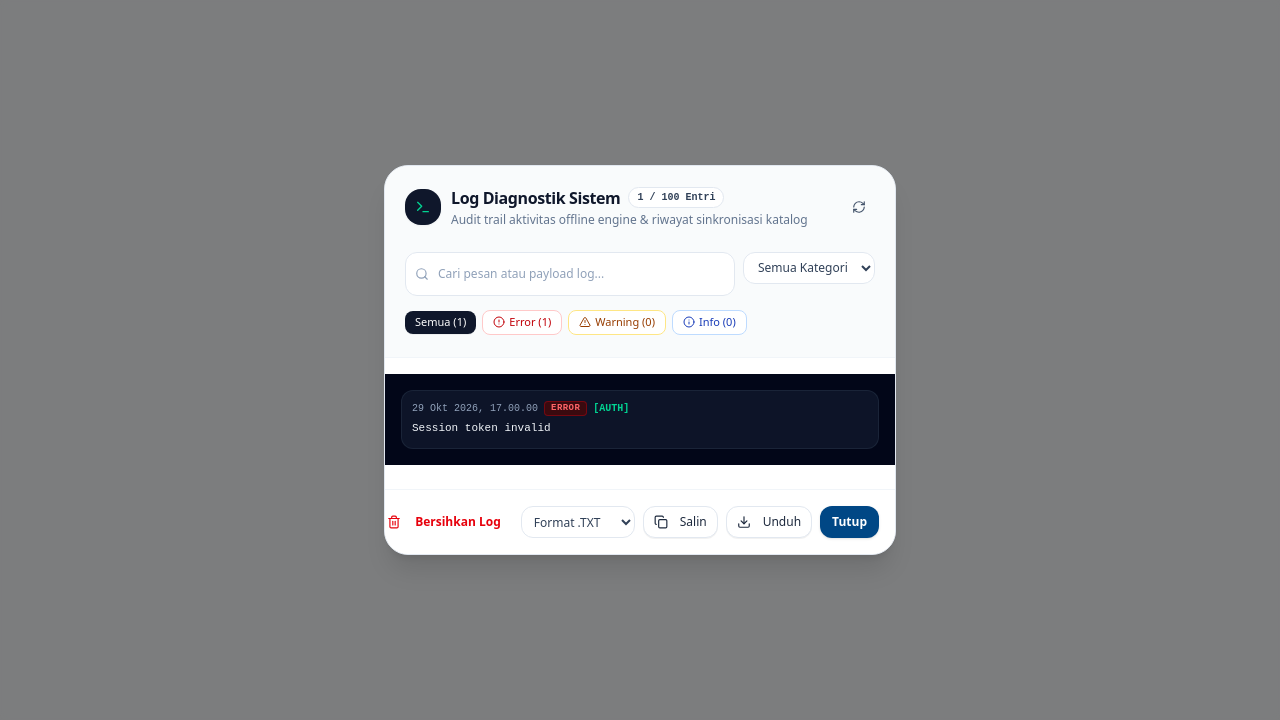
it: DiagnosticLogDialog Component Suite (Task P5.13) › confirms and clears all diagnostic logs
The width and height of the screenshot is (1280, 720).
Expected: the text "Session token invalid" is shown, [412,422,551,434]
What coordinates should you click on to do the following:
click the button with test id "clear-logs-button"
I would click on:
 (444, 522)
Its box is [377,506,511,538].
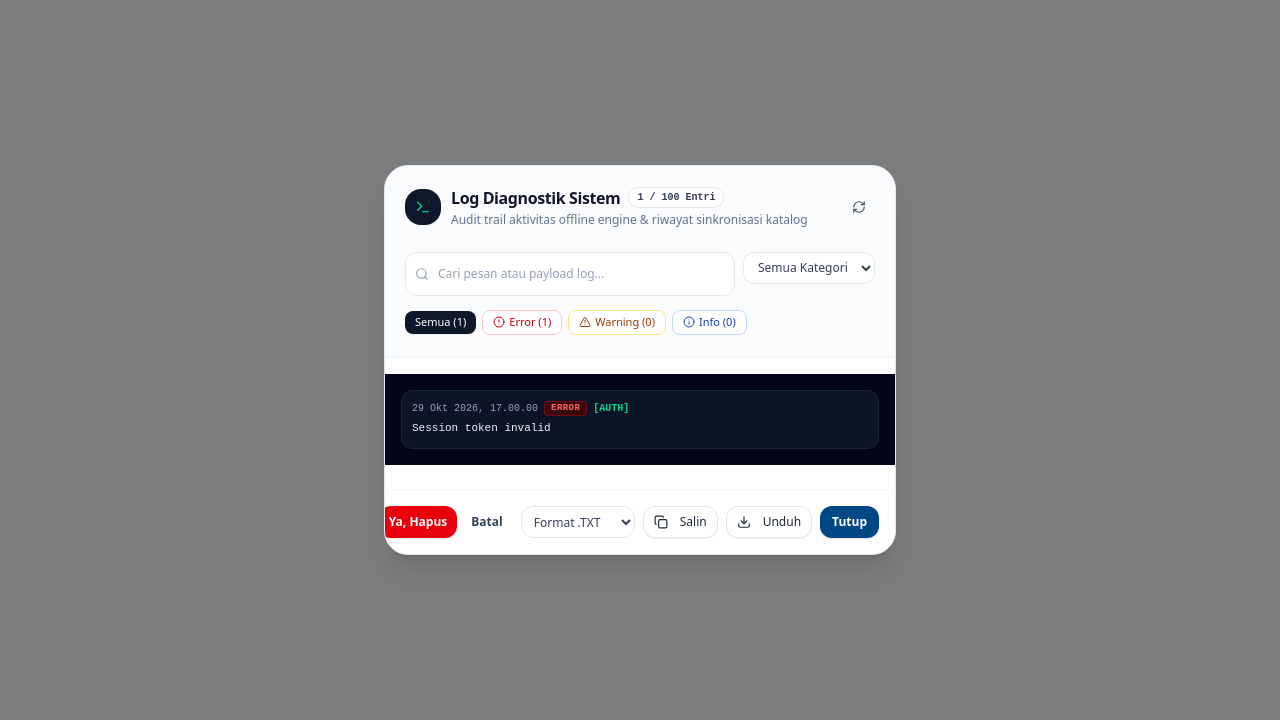
What coordinates should you click on to do the following:
click the button with test id "confirm-clear-logs-button"
I would click on:
 (418, 522)
Its box is [379,506,457,538].
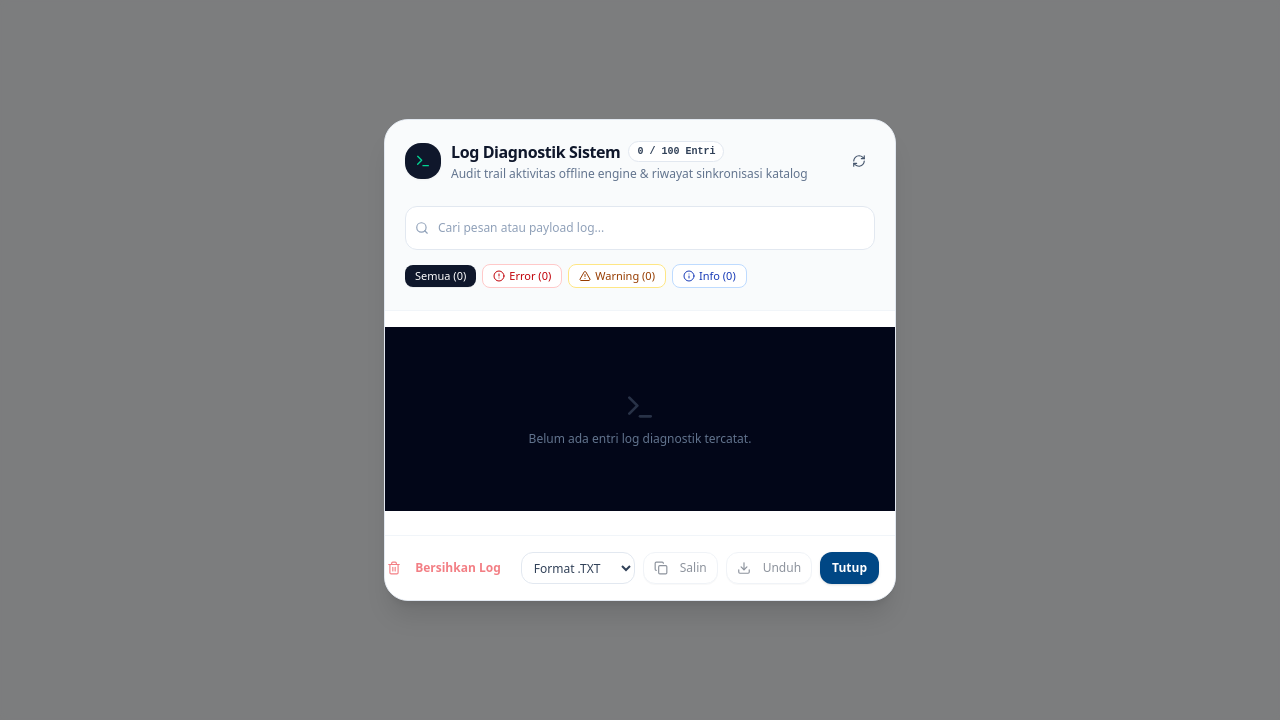
Result: the text "Belum ada entri log diagnostik tercatat." is shown at [529,430,751,447]
